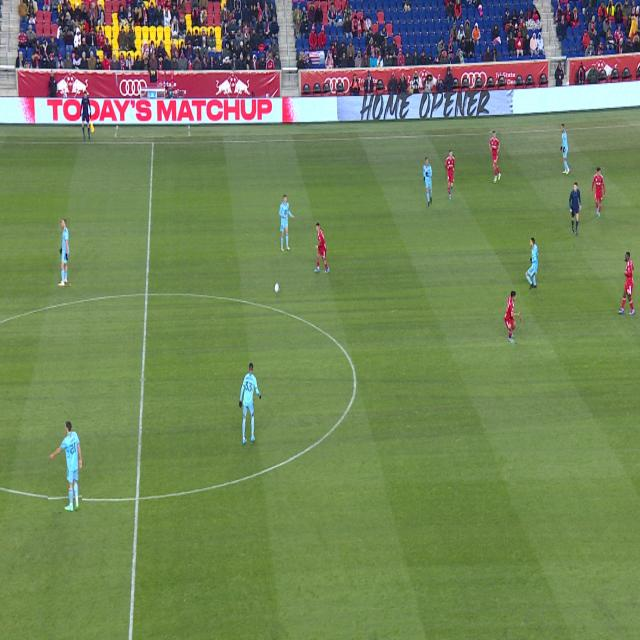football: (275, 284, 279, 294)
player: (49, 422, 82, 512), (239, 363, 261, 444), (618, 252, 635, 315), (279, 194, 295, 252), (505, 292, 520, 342), (315, 223, 330, 273), (59, 218, 70, 286), (525, 238, 538, 290), (592, 167, 605, 217), (489, 132, 501, 182), (560, 124, 570, 175), (445, 150, 455, 200), (423, 158, 432, 207)
referee: (569, 182, 582, 234)
